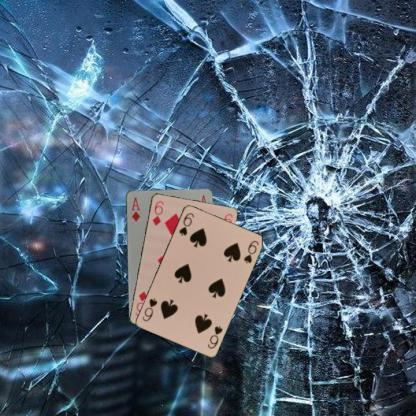6d: (150, 198, 164, 227)
6s: (177, 210, 196, 237), (206, 323, 224, 350)
Ad: (128, 194, 140, 223)
